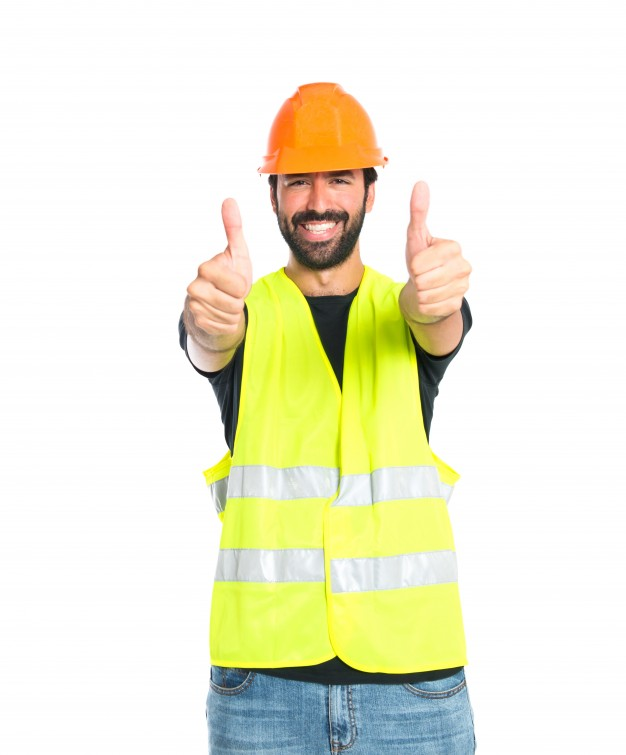thumbsup: (404, 180, 473, 318), (186, 198, 251, 335)
